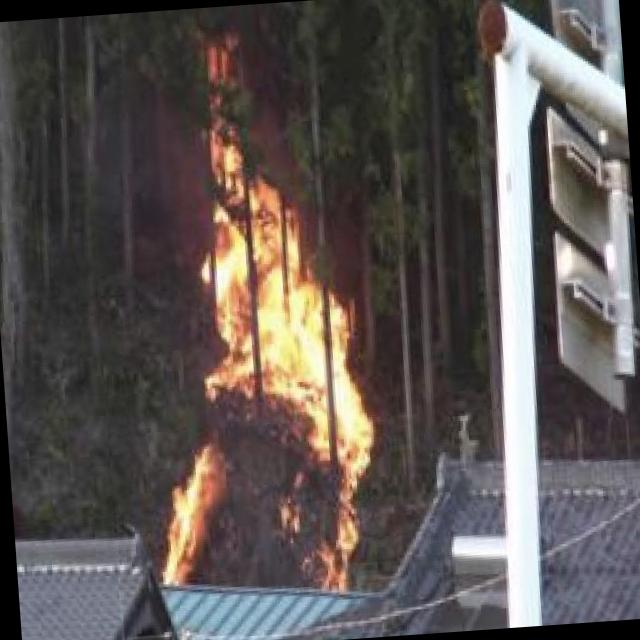Fire: (120, 104, 380, 608)
